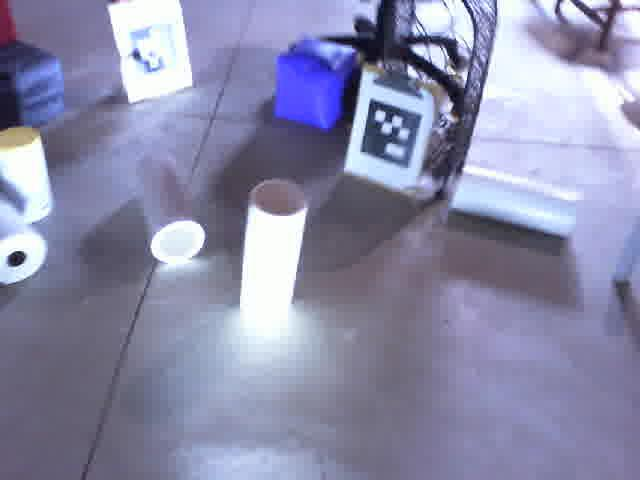coral: (234, 172, 312, 335), (123, 143, 215, 265), (450, 160, 581, 242)
